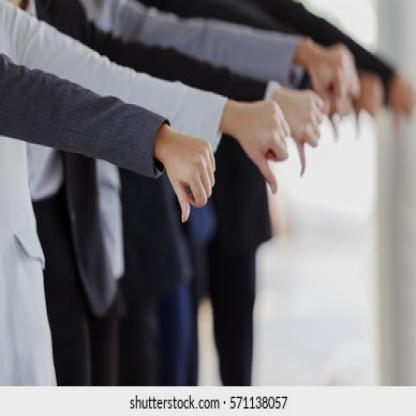Thumbs Down: (156, 116, 220, 232), (223, 101, 288, 191), (289, 90, 327, 176)
